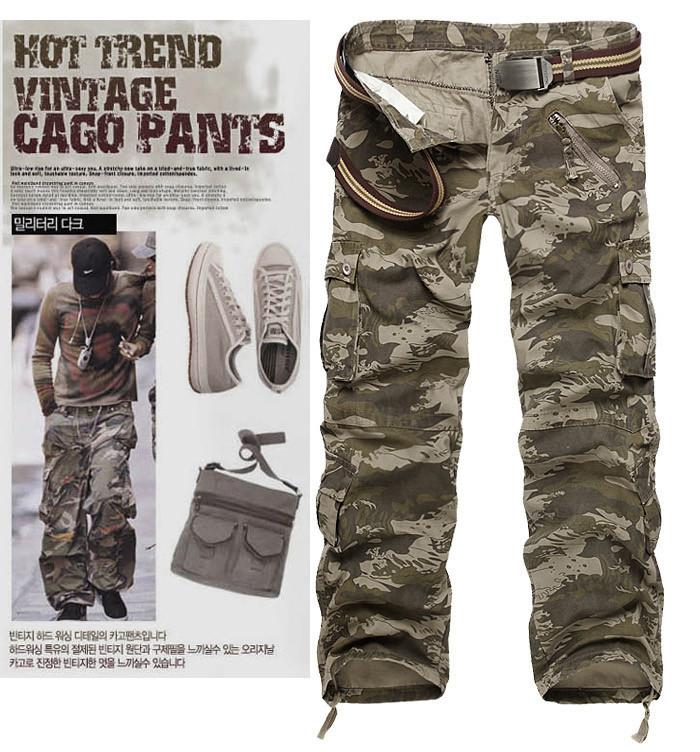pants: (332, 26, 662, 693)
